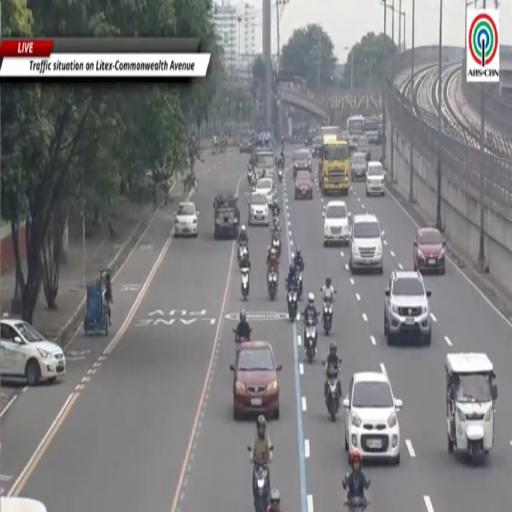car: (343, 372, 402, 465), (0, 318, 65, 386), (230, 342, 282, 419), (384, 270, 431, 345), (349, 214, 384, 274), (414, 228, 446, 274), (323, 201, 350, 246), (174, 202, 198, 236), (0, 496, 47, 511), (253, 148, 276, 178), (248, 194, 269, 226), (366, 162, 384, 196), (254, 178, 274, 204), (292, 150, 311, 177), (295, 171, 313, 199), (351, 152, 368, 181), (364, 117, 381, 143), (357, 136, 371, 161), (239, 133, 252, 153), (312, 135, 323, 158)
jeepney: (445, 354, 497, 457)
motorcycle: (253, 459, 269, 511), (326, 365, 340, 422), (304, 317, 317, 363), (233, 329, 250, 353), (323, 299, 333, 334), (288, 288, 297, 322), (268, 270, 278, 300), (240, 267, 249, 300), (271, 230, 281, 258), (348, 499, 366, 511), (238, 243, 248, 264), (297, 270, 302, 299), (271, 203, 279, 218), (247, 166, 253, 185), (278, 168, 282, 183)
tricycle: (84, 269, 110, 335)
truck: (318, 139, 350, 195), (214, 192, 240, 239), (347, 116, 364, 150)
